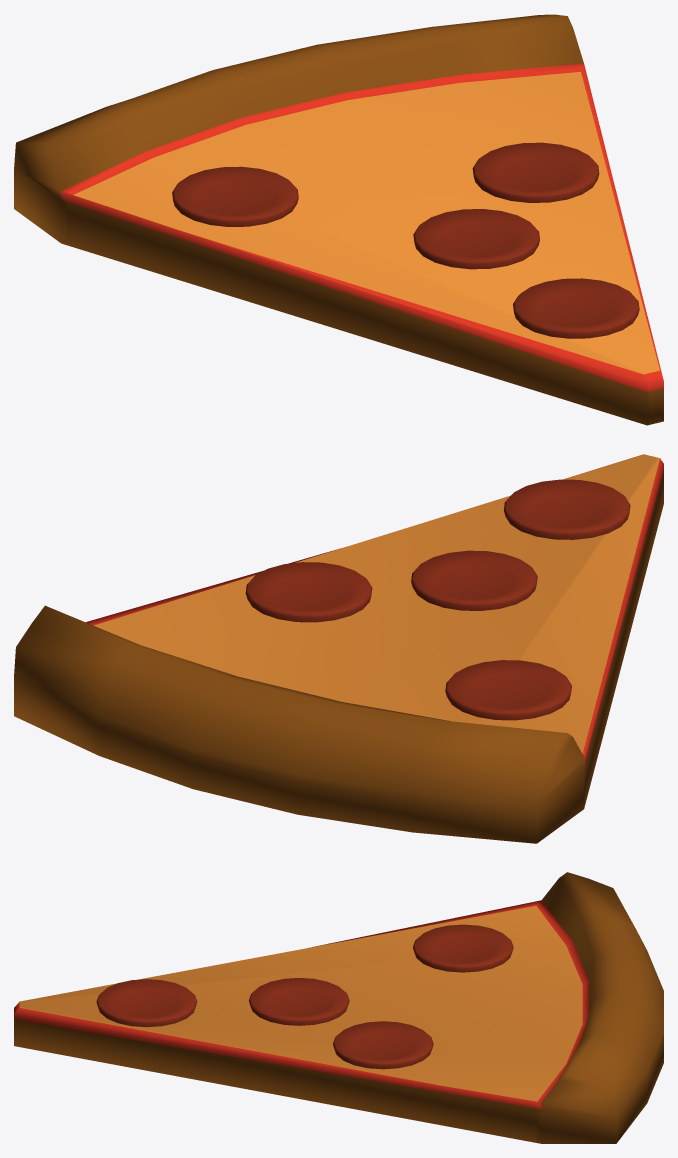
Rendered from pizza.fbx.
3 renders of one model, top to bottom at view 1: azimuth 30°, elevation 25°; view 2: azimuth 150°, elevation 25°; view 3: azimuth 270°, elevation 25°, orthographic. The views are drawn at different scales.
Visible parts, largest first — view 1: Pizza; view 2: Pizza; view 3: Pizza.
Boxes of the visible parts, bbox=[...] form: Pizza: bbox=[14, 14, 663, 425]; Pizza: bbox=[14, 454, 663, 843]; Pizza: bbox=[14, 872, 663, 1143].
Bounding box in the file's own units: 12.84 × 17.45 × 2.07.
